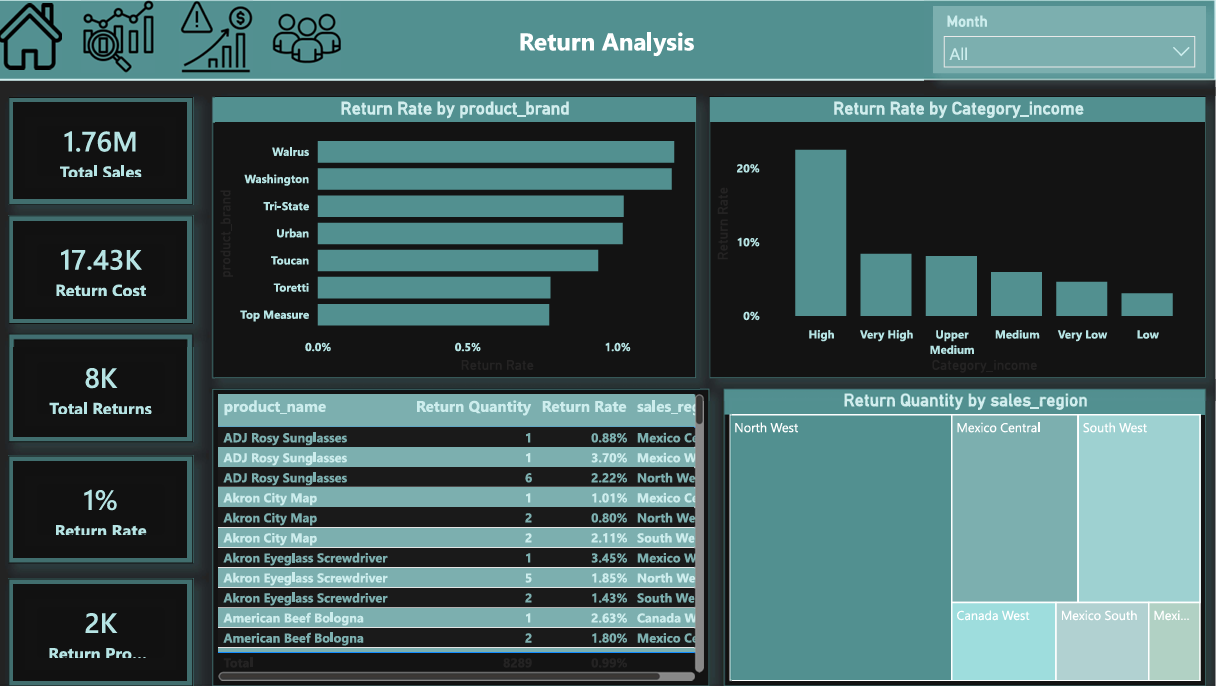

This screenshot's page, from the dashboard's own definition file:
{"tool":"powerbi","page":{"name":"Returns","canvas":[1280,720],"ordinal":2},"visuals":[{"type":"barChart","fields":{"Category":["Products.product_brand"],"Y":["Measure.Return Rate"]},"box":[226.4,101.5,507.7,295],"z":0},{"type":"shape","box":[0,0,1280.3,83.7],"z":1000},{"type":"cardVisual","fields":{"Data":["Measure.Total Sales"]},"box":[12.3,101.5,193.5,113.9],"z":2000},{"type":"cardVisual","fields":{"Data":["Measure.Total Returns"]},"box":[12.3,349.9,193.5,113.9],"z":3000},{"type":"cardVisual","fields":{"Data":["Measure.Return Rate"]},"box":[12.3,477.5,193.5,113.9],"z":4000},{"type":"cardVisual","fields":{"Data":["Measure.Return Product"]},"box":[12.3,606.5,193.5,113.9],"z":5000},{"type":"cardVisual","fields":{"Data":["Measure.Return Cost"]},"box":[12.3,226.4,193.5,113.9],"z":6000},{"type":"treemap","fields":{"Group":["Region.sales_region"],"Values":["Measure.Return Quantity"]},"box":[763,407.5,506.3,312.9],"z":7000},{"type":"tableEx","fields":{"Values":["Products.product_name","Measure.Return Quantity","Measure.Return Rate","Region.sales_region"]},"box":[226.4,407.5,521.4,312.9],"z":8000},{"type":"clusteredColumnChart","fields":{"Category":["Customers.Category_income"],"Y":["Measure.Return Rate"]},"box":[747.9,101.5,521.4,295],"z":9000},{"type":"slicer","fields":{"Values":["Calender.Date.Variation.Date Hierarchy.Month"]},"box":[982.5,6.9,286.8,70],"z":10000},{"type":"image","box":[0,0,68.6,76.8],"z":11000},{"type":"image","box":[79.6,0,94.7,76.8],"z":12000},{"type":"image","box":[186.6,0,87.8,76.8],"z":13000},{"type":"image","box":[274.4,4.1,102.9,72.7],"z":14000}]}

Visuals, with their boxes in screenshot pixels (x1, y1, x2, y2), scaled from the page's 1280x720 canvas onto the 1217x686 screenshot:
barChart - Products.product_brand x Measure.Return Rate: rect(215, 97, 698, 378)
shape: rect(0, 0, 1216, 80)
cardVisual - Measure.Total Sales: rect(12, 97, 196, 205)
cardVisual - Measure.Total Returns: rect(12, 333, 196, 442)
cardVisual - Measure.Return Rate: rect(12, 455, 196, 563)
cardVisual - Measure.Return Product: rect(12, 578, 196, 685)
cardVisual - Measure.Return Cost: rect(12, 216, 196, 324)
treemap - Region.sales_region x Measure.Return Quantity: rect(725, 388, 1207, 685)
tableEx - Products.product_name x Measure.Return Quantity: rect(215, 388, 711, 685)
clusteredColumnChart - Customers.Category_income x Measure.Return Rate: rect(711, 97, 1207, 378)
slicer - Calender.Date.Variation.Date Hierarchy.Month: rect(934, 7, 1207, 73)
image: rect(0, 0, 65, 73)
image: rect(76, 0, 166, 73)
image: rect(177, 0, 261, 73)
image: rect(261, 4, 359, 73)
